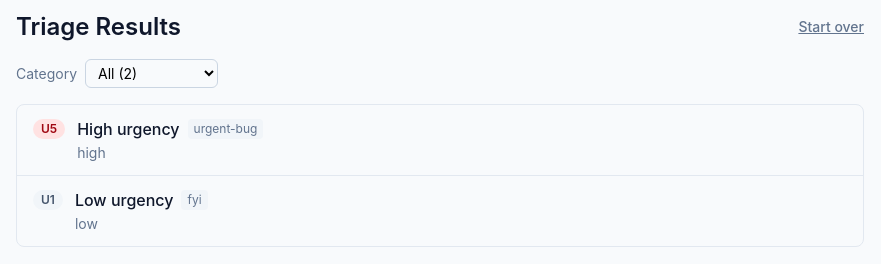
Test: ResultsList › filters rows by the selected category
The width and height of the screenshot is (881, 264).
Select "urgent-bug (1)" in the dropdown labelled "Category" at (152, 74), box [85,59,218,88]
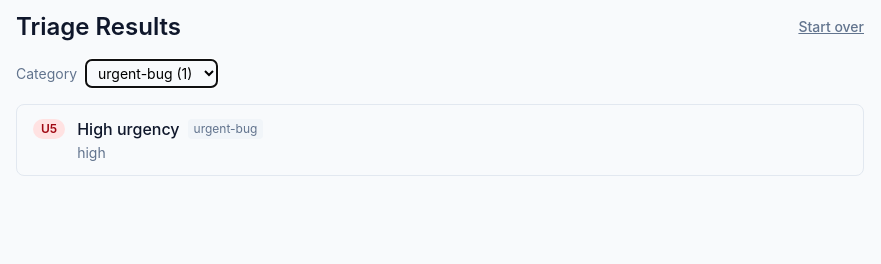
Expected: the text "High urgency" is shown, [77,117,180,141]
Expected: the button "Low urgency" is gone
